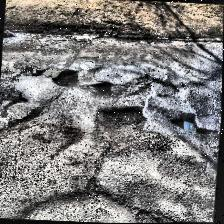pothole: (90, 100, 146, 150), (167, 110, 222, 142), (0, 82, 28, 114), (50, 66, 82, 92), (88, 78, 114, 98)
